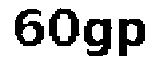0: (49, 5, 80, 50)
6: (14, 7, 47, 51)
g: (83, 14, 113, 60)
p: (116, 14, 146, 60)
